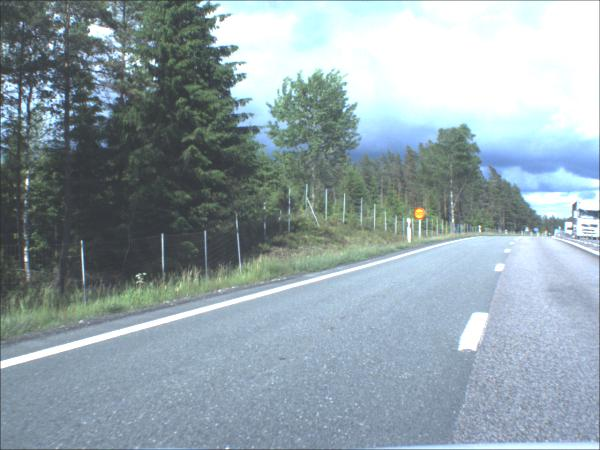100_SIGN: (414, 209, 426, 221)
